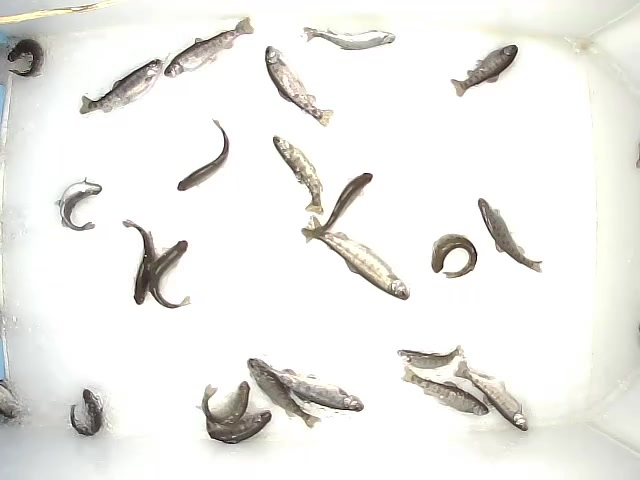fish: (311, 217, 411, 301), (264, 45, 335, 127), (164, 15, 256, 78), (453, 359, 529, 433), (246, 357, 323, 430), (477, 197, 545, 275), (77, 58, 165, 117), (263, 363, 365, 413), (302, 172, 374, 242), (400, 365, 491, 417), (272, 135, 327, 216), (177, 118, 230, 192), (450, 43, 519, 98), (148, 239, 193, 310), (121, 218, 156, 306), (194, 407, 273, 444), (53, 175, 103, 231), (300, 25, 397, 52), (195, 380, 251, 425), (430, 232, 477, 280), (395, 344, 468, 370), (69, 388, 106, 437), (7, 38, 45, 77)
